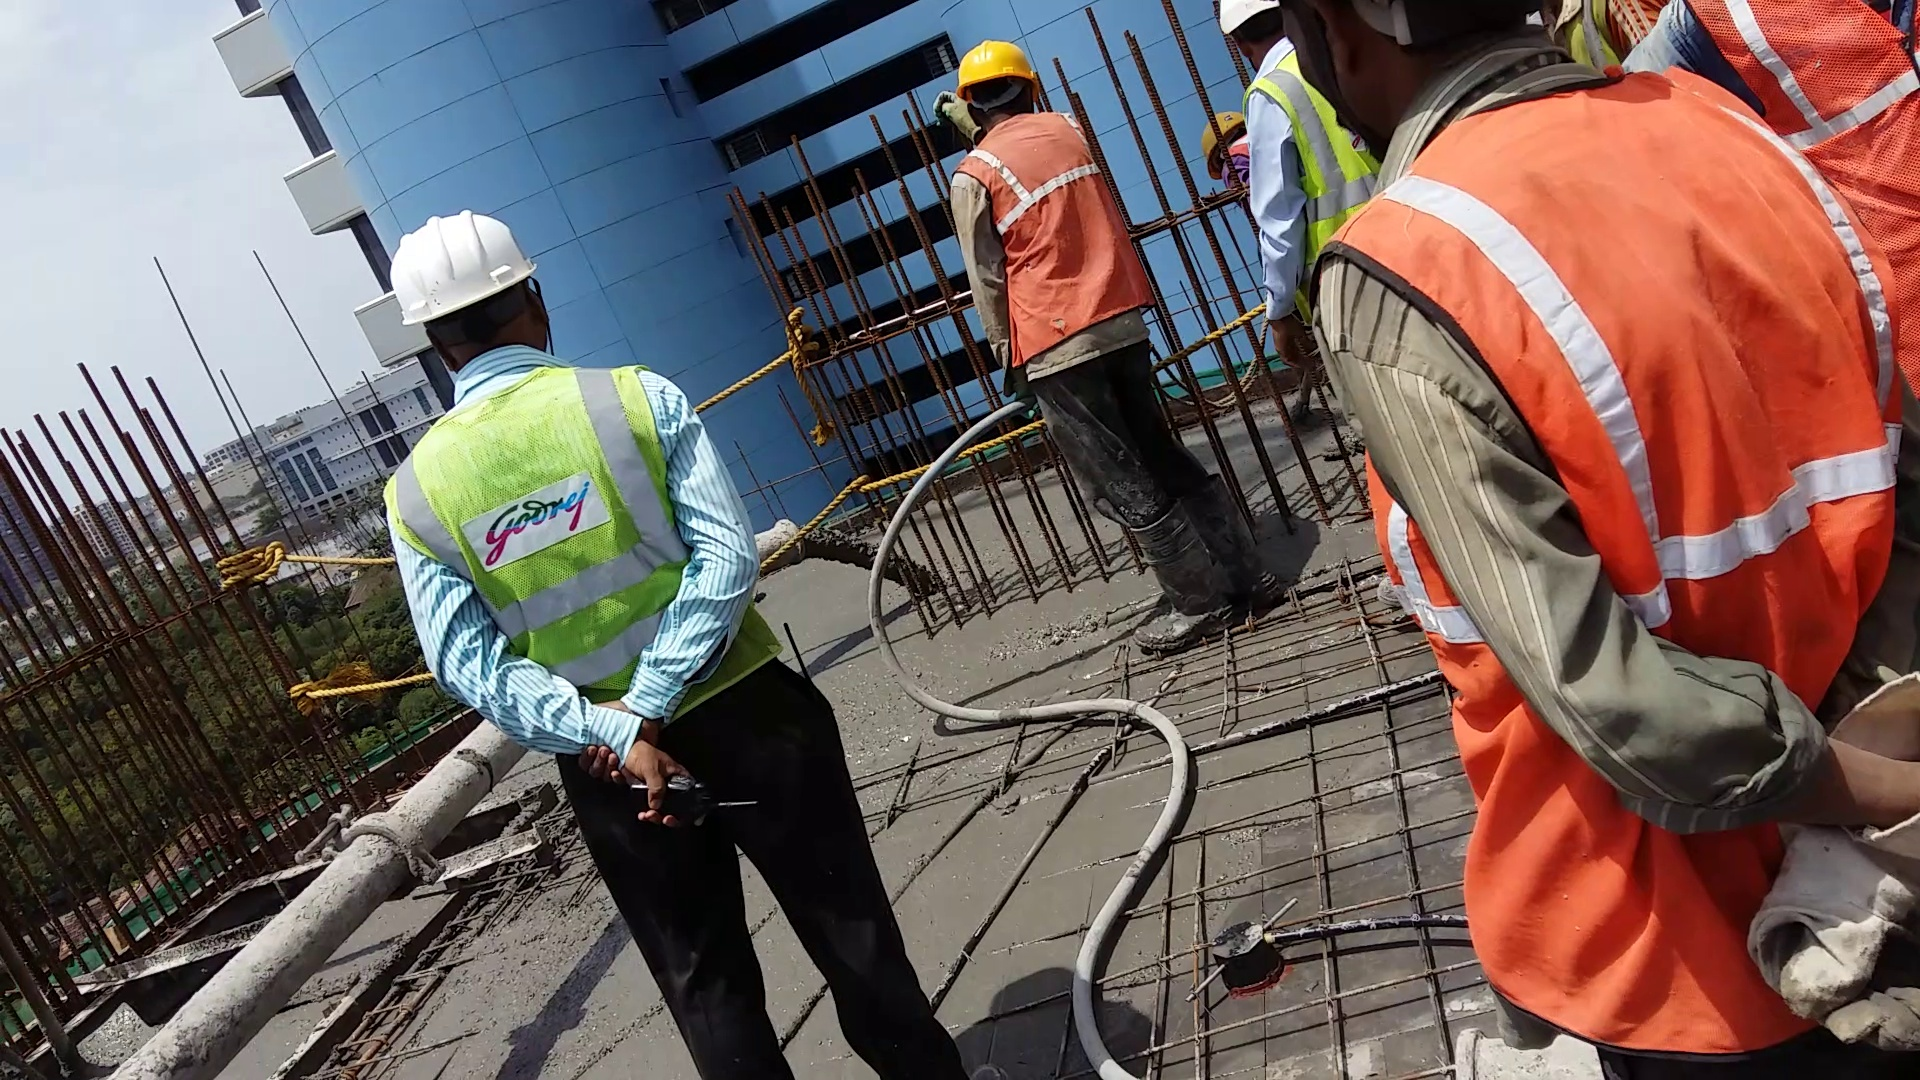SAFE: (386, 202, 670, 740), (956, 42, 1135, 361)
